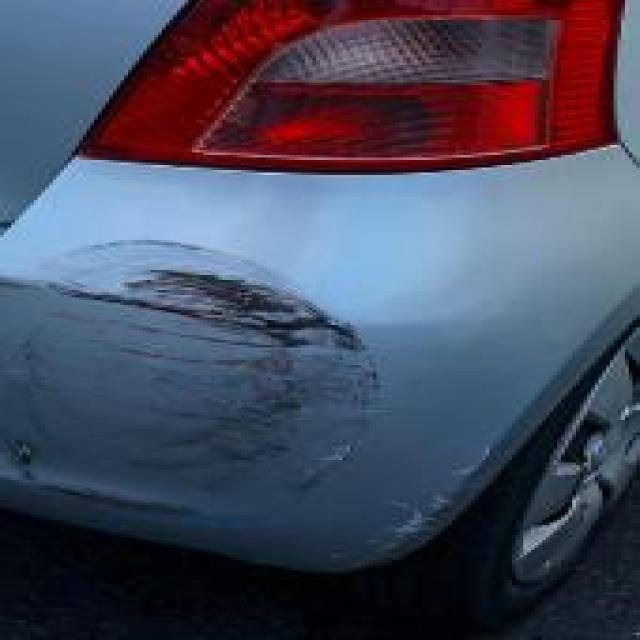Bumper: (0, 225, 512, 640)
